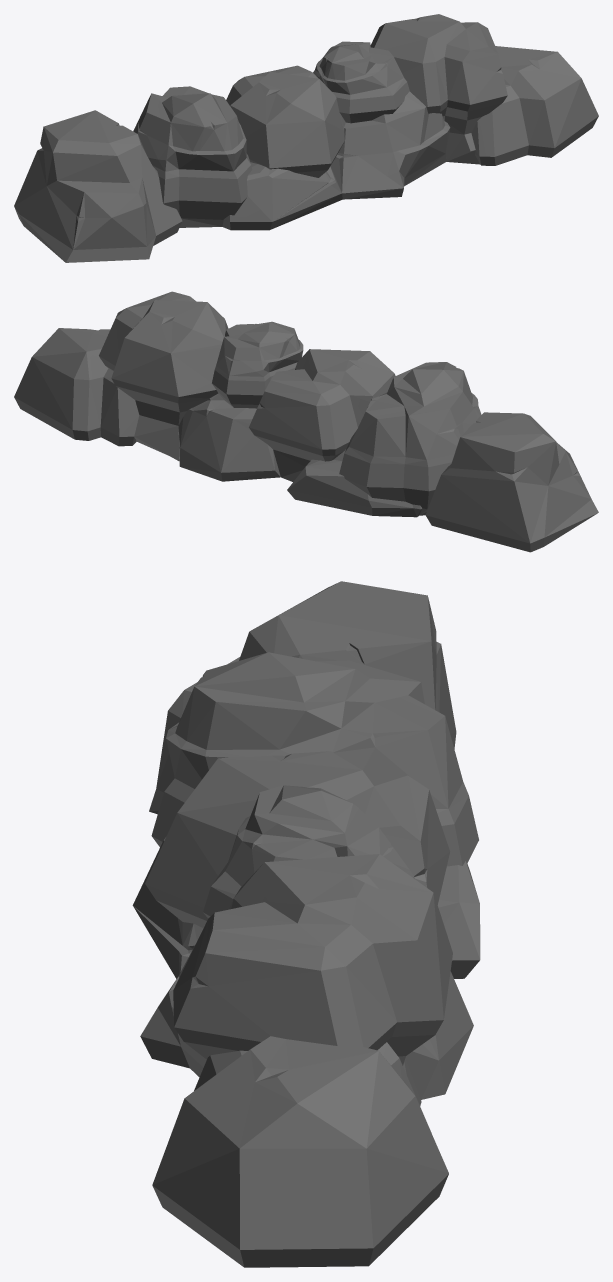
The model's file is rock__rockwall_straight_medium.glb.
3 renders of one model, top to bottom at view 1: azimuth 30°, elevation 25°; view 2: azimuth 150°, elevation 25°; view 3: azimuth 270°, elevation 25°, orthographic. The views are drawn at different scales.
Visible parts, largest first — view 1: rockwall.straight.medium; view 2: rockwall.straight.medium; view 3: rockwall.straight.medium.
Part boxes in pixels (x1=…): rockwall.straight.medium: x1=14, y1=14, x2=598, y2=262; rockwall.straight.medium: x1=14, y1=291, x2=598, y2=552; rockwall.straight.medium: x1=132, y1=581, x2=480, y2=1267.
Bounding box in the file's own units: 6.74 × 1.5 × 1.88.
1 material, 1 textured.
